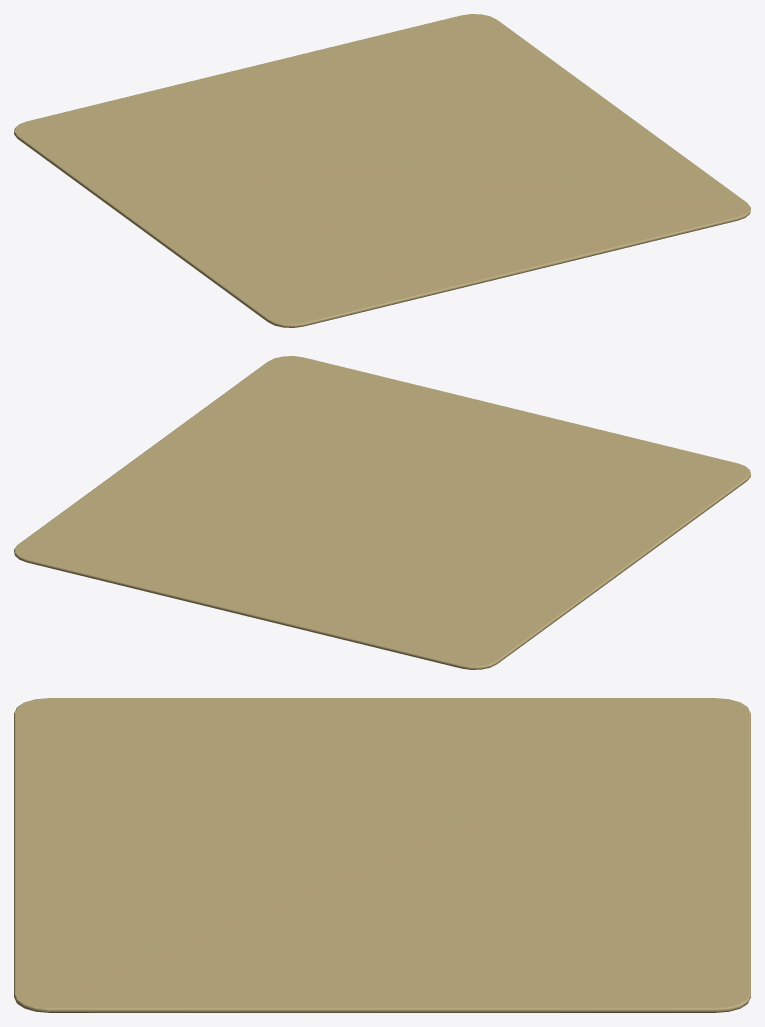
The model's file is path_tile.glb.
The picture shows the model from 3 angles, top to bottom: view 1: azimuth 30°, elevation 25°; view 2: azimuth 150°, elevation 25°; view 3: azimuth 270°, elevation 25°; orthographic projection. The views are drawn at different scales.
Visible parts, largest first — view 1: path_tile; view 2: path_tile; view 3: path_tile.
Boxes of the visible parts, bbox=[...] form: path_tile: bbox=[14, 14, 750, 327]; path_tile: bbox=[14, 356, 750, 669]; path_tile: bbox=[14, 698, 750, 1012].
Size of the model in its own units: 1.27 by 0.009 by 1.27.
